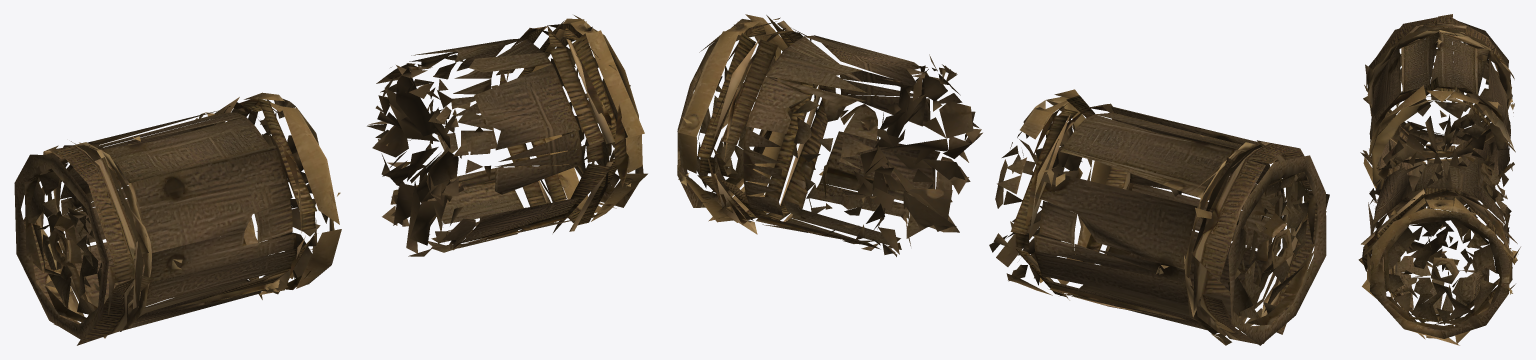
File: ch9_sheared_resonance_conduit_LOD3.glb
The picture shows the model from 3 angles, left to right: view 1: azimuth 30°, elevation 25°; view 2: azimuth 150°, elevation 25°; view 3: azimuth 270°, elevation 25°; orthographic projection. The views are drawn at different scales.
Parts seen in each view (by area): view 1: tripo_node_ba16dd95-4afa-4617-b60e-56446d4bd330; view 2: tripo_node_ba16dd95-4afa-4617-b60e-56446d4bd330; view 3: tripo_node_ba16dd95-4afa-4617-b60e-56446d4bd330.
Boxes of the visible parts, left/top/right/bottom form: tripo_node_ba16dd95-4afa-4617-b60e-56446d4bd330: left=14, top=15, right=647, bottom=345; tripo_node_ba16dd95-4afa-4617-b60e-56446d4bd330: left=677, top=14, right=1329, bottom=345; tripo_node_ba16dd95-4afa-4617-b60e-56446d4bd330: left=1358, top=14, right=1520, bottom=345.
Bounding box in the file's own units: 1.01 × 0.3524 × 0.3544.
1 material, 1 textured.
